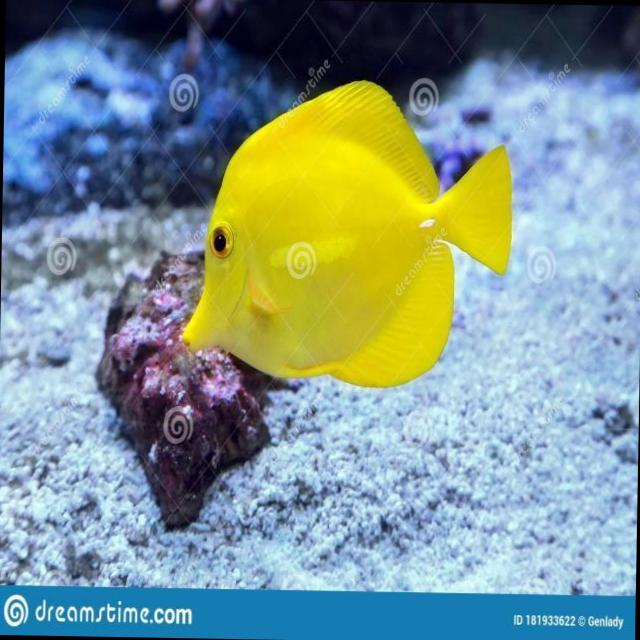TangFish: (169, 71, 520, 397)
